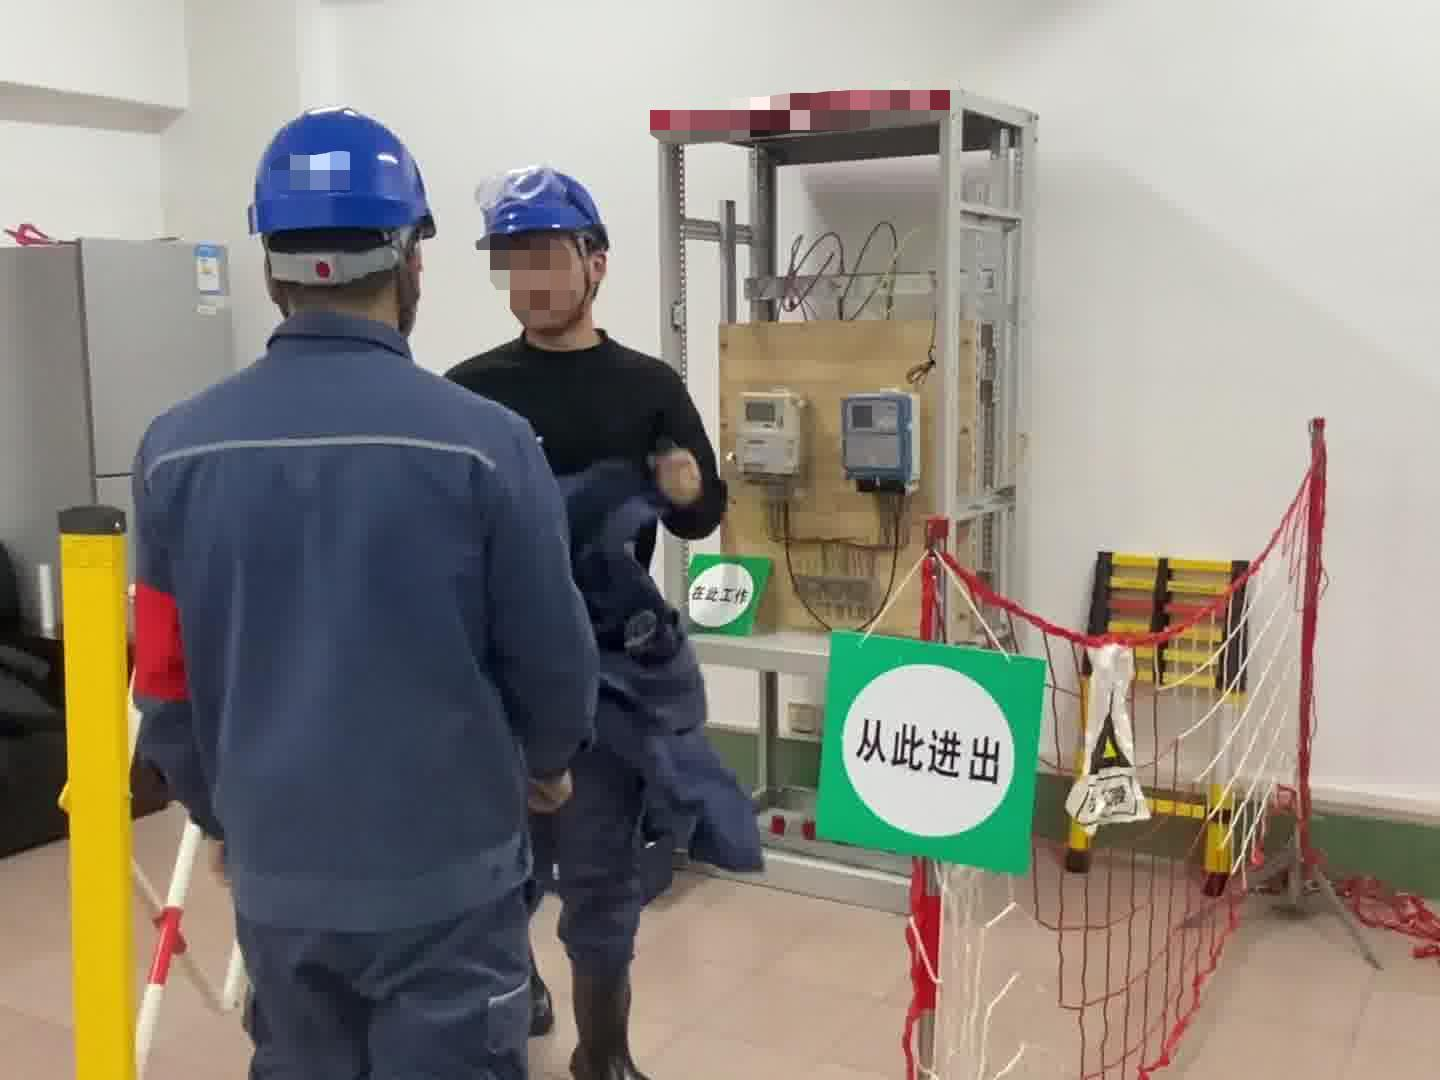halt: (245, 110, 444, 330), (477, 167, 621, 351)
inear: (577, 238, 613, 302)
